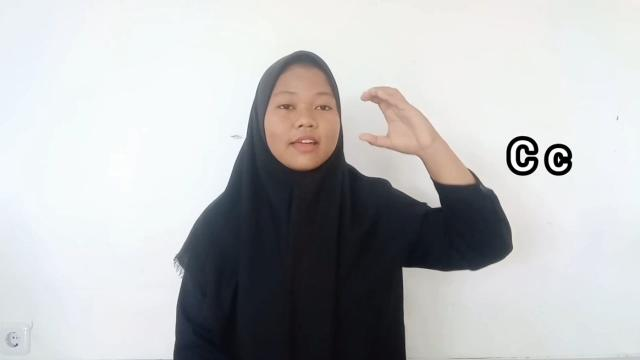C: (358, 85, 440, 158)
